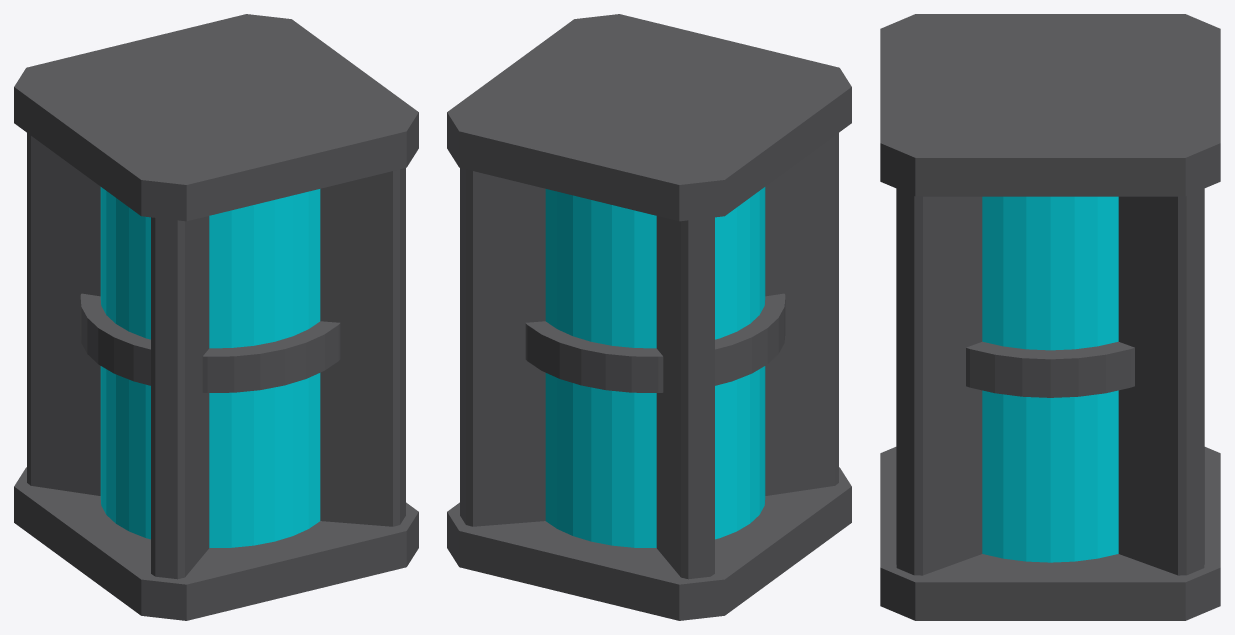
The model's file is powerGenerator.obj.
3 views of the same model, side by side, from view 1: azimuth 30°, elevation 25°; view 2: azimuth 150°, elevation 25°; view 3: azimuth 270°, elevation 25° (orthographic). The views are drawn at different scales.
Visible parts, largest first — view 1: 立方体.003; view 2: 立方体.003; view 3: 立方体.003.
Boxes of the visible parts, <box> form: 立方体.003: <box>14,14,418,620</box>; 立方体.003: <box>447,14,851,620</box>; 立方体.003: <box>880,14,1220,620</box>.
Size of the model in its own units: 4 by 6 by 4.
